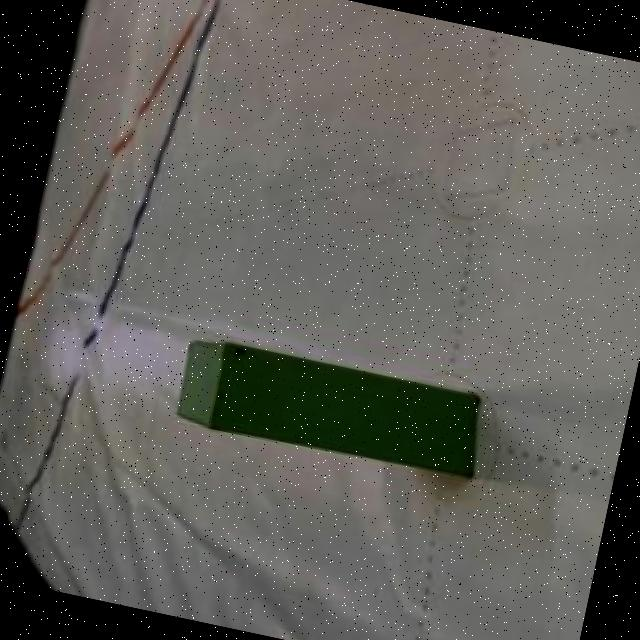greenbox: (167, 332, 486, 482)
